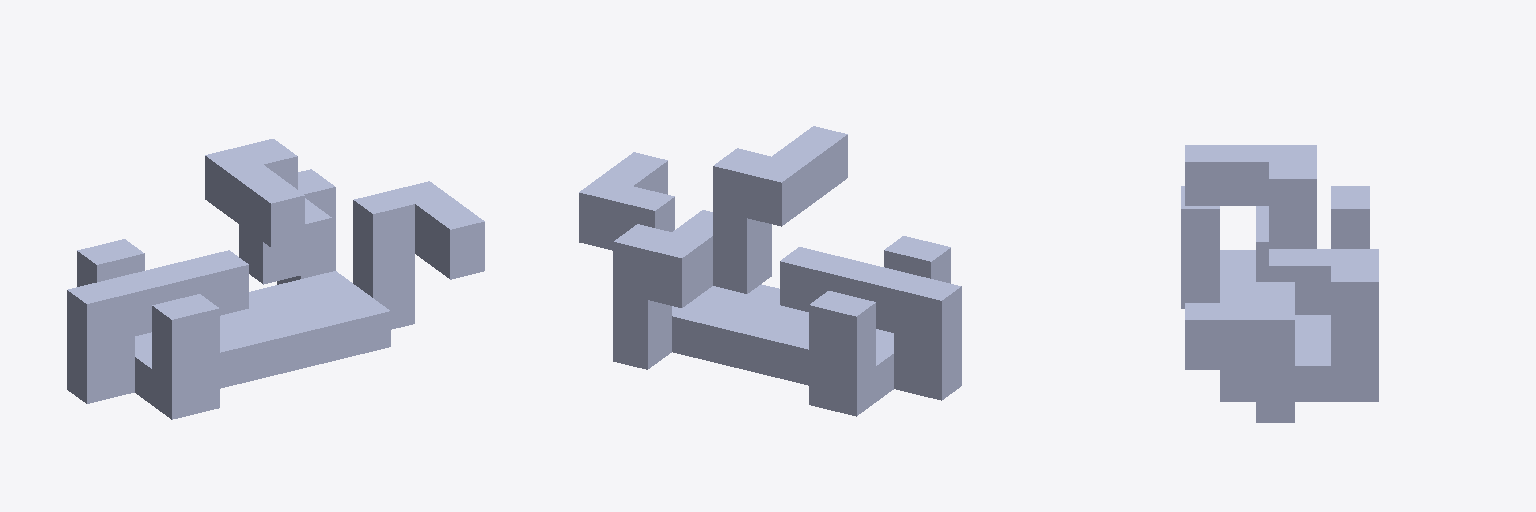
Rendered from Distractor_11.obj.
3 views of the same model, side by side, from view 1: azimuth 30°, elevation 25°; view 2: azimuth 150°, elevation 25°; view 3: azimuth 270°, elevation 25° (orthographic).
Parts seen in each view (by area): view 1: mesh_1_Long-7; view 2: mesh_1_Long-7; view 3: mesh_1_Long-7.
Boxes of the visible parts, box(x1,y1,x2,y2) form: mesh_1_Long-7: box(67, 139, 484, 419); mesh_1_Long-7: box(579, 126, 961, 416); mesh_1_Long-7: box(1181, 145, 1378, 422).
Size of the model in its own units: 0.19 by 0.095 by 0.09.